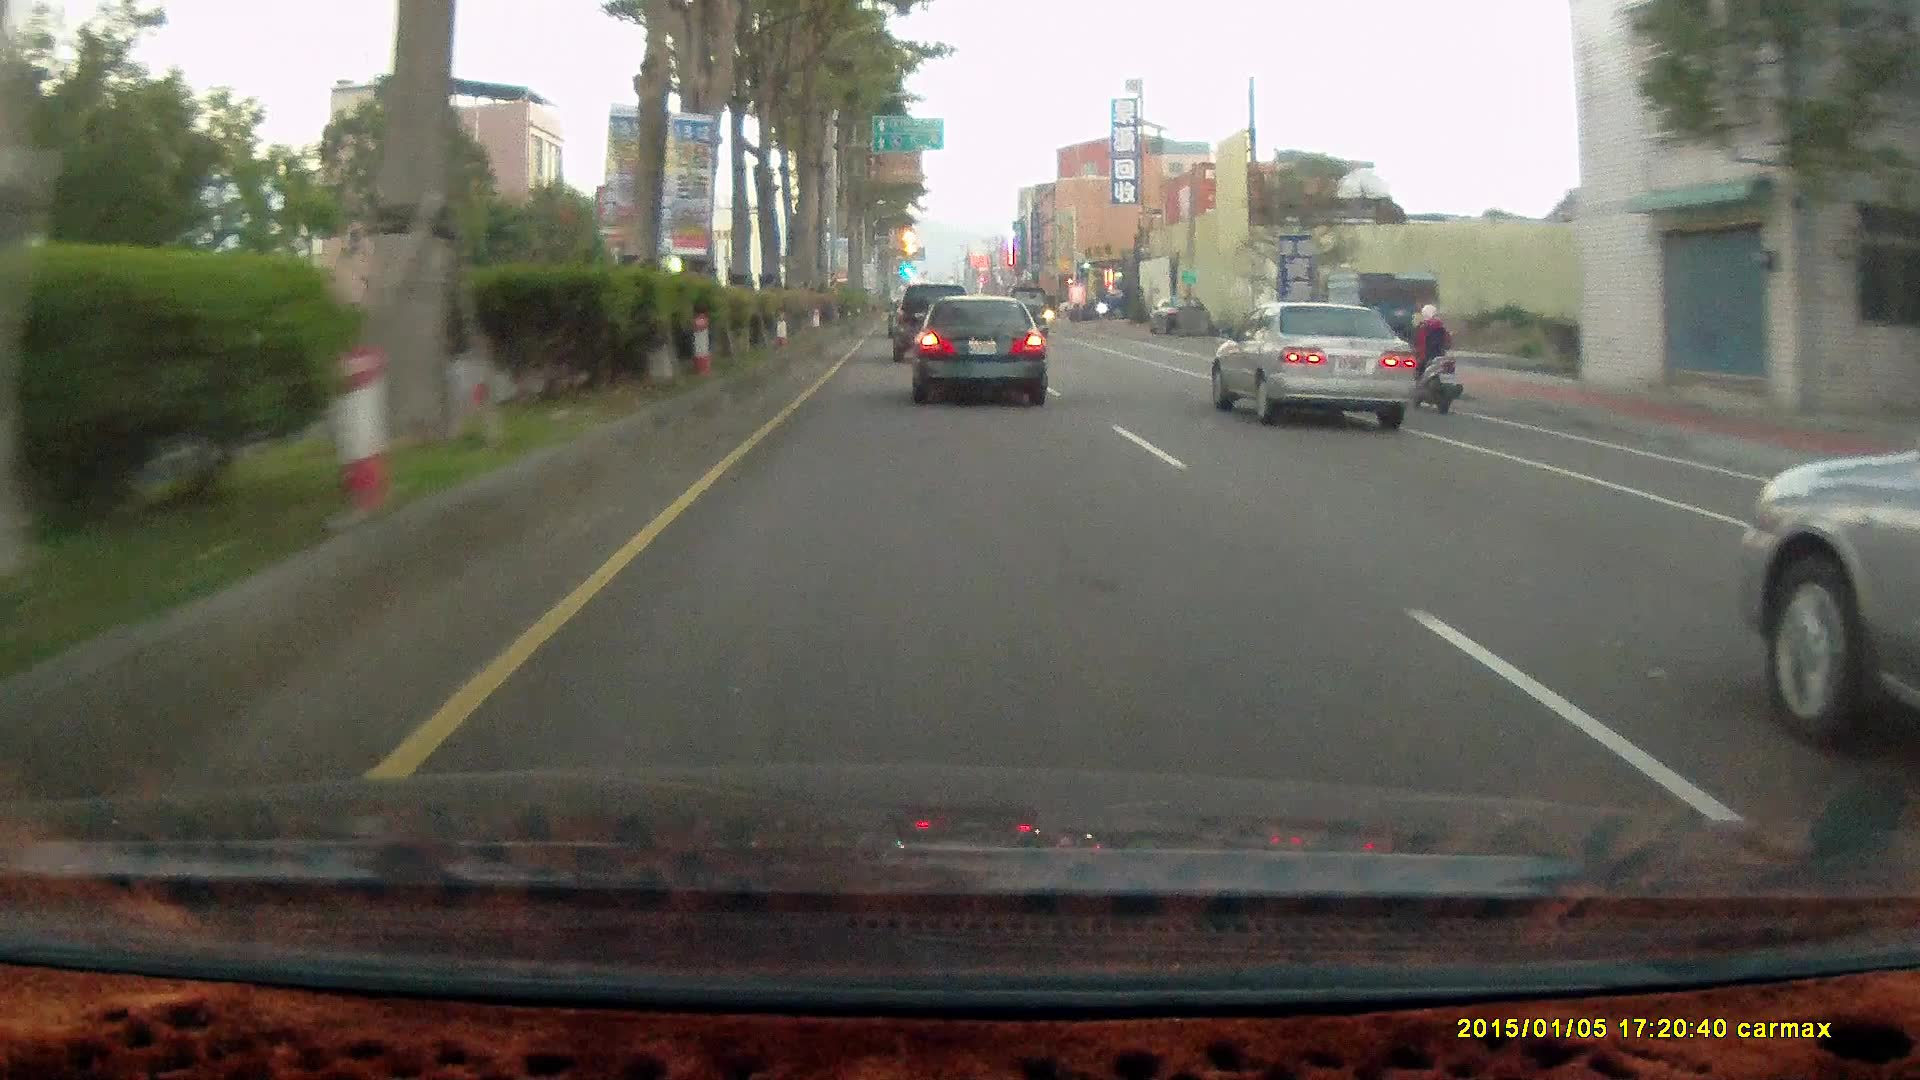rider: (1387, 293, 1472, 422), (1396, 301, 1461, 415)
vehicle: (1756, 421, 1920, 762), (1208, 301, 1417, 431), (1222, 302, 1420, 432), (907, 294, 1046, 405), (908, 296, 1047, 401), (1315, 273, 1438, 368), (889, 283, 973, 362), (889, 282, 972, 361), (1004, 286, 1049, 338), (1092, 284, 1153, 320)
